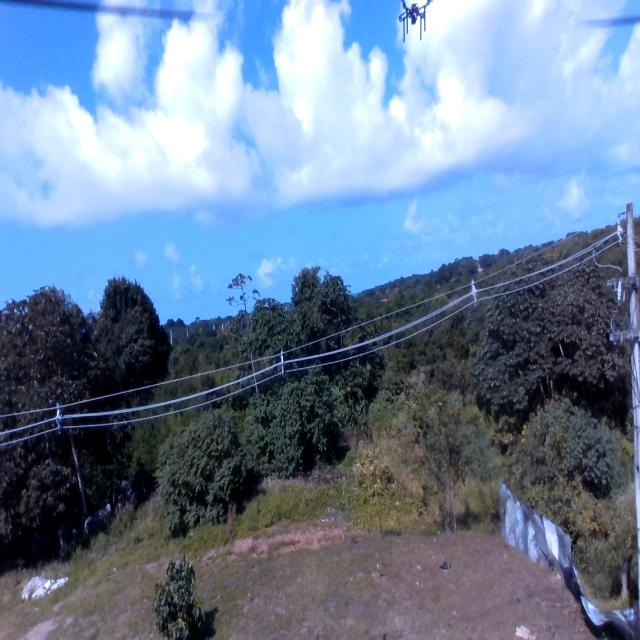-uav-: (394, 0, 437, 50)
